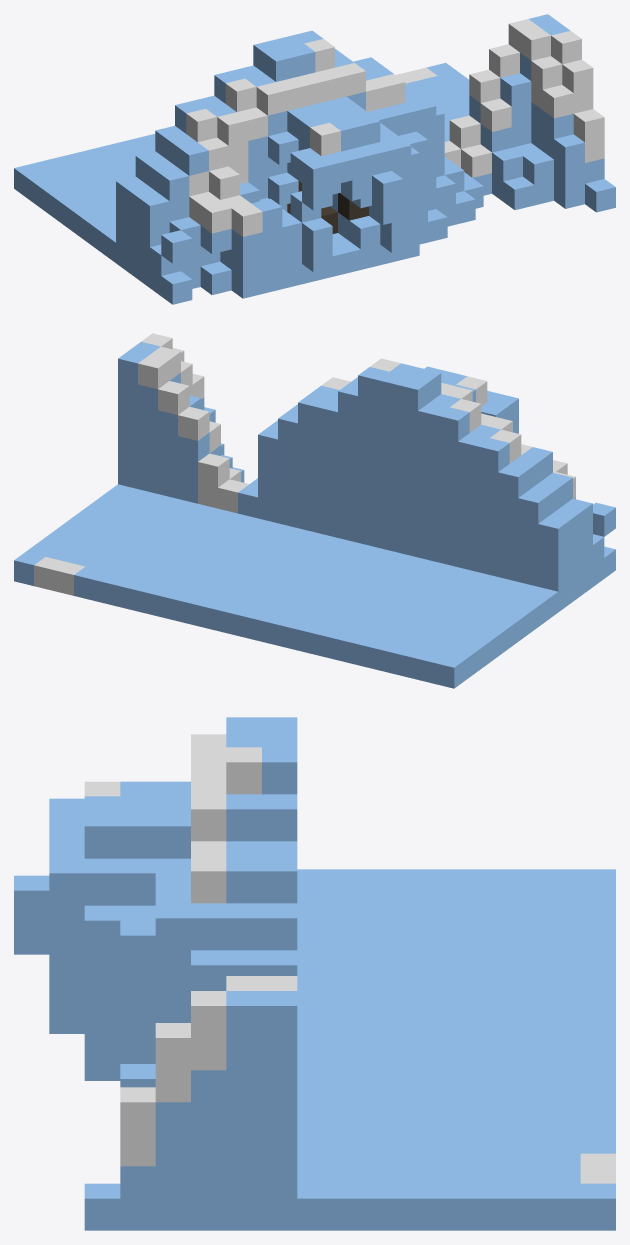
The model's file is snow7.obj.
3 views of the same model, one above another, from view 1: azimuth 30°, elevation 25°; view 2: azimuth 150°, elevation 25°; view 3: azimuth 270°, elevation 25° (orthographic). The views are drawn at different scales.
Bounding box in the file's own units: 2.2 × 0.9 × 1.7.
Materials: 1 (1 with a texture image).
